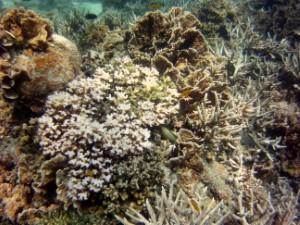bleached_corals: (18, 38, 210, 223)
